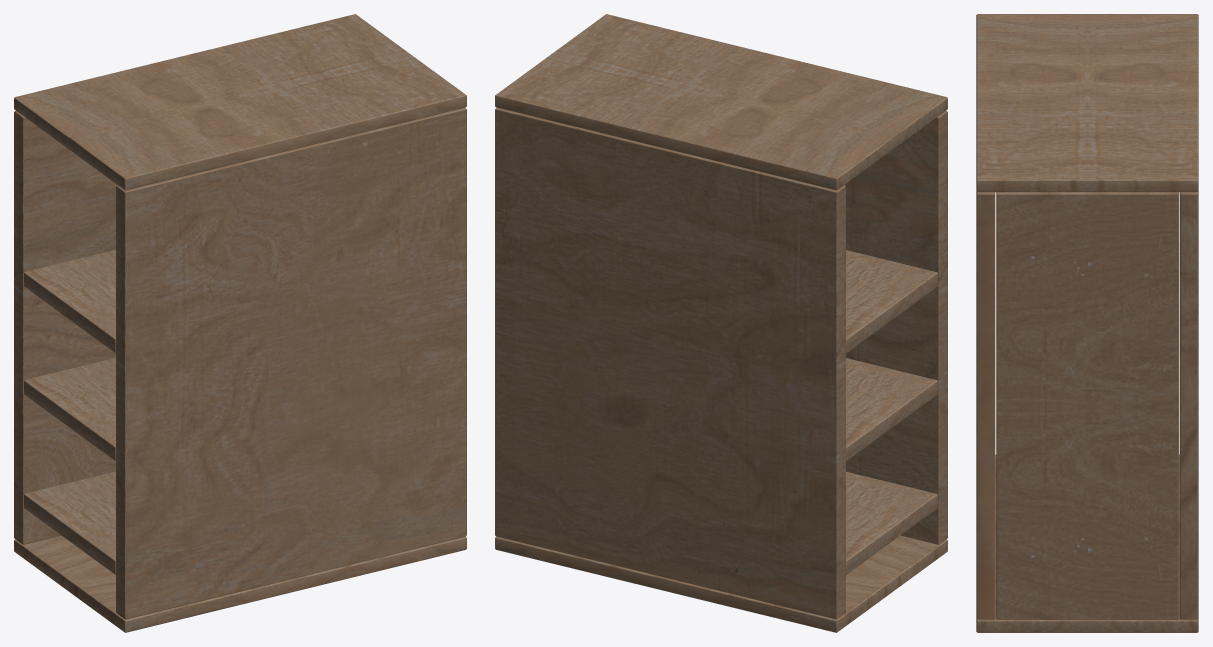
File: SM_Middle_Table_Var_2.fbx
3 views of the same model, side by side, from view 1: azimuth 30°, elevation 25°; view 2: azimuth 150°, elevation 25°; view 3: azimuth 270°, elevation 25° (orthographic).
Visible parts, largest first — view 1: SM_Middle_Table_Var_2_LOD0; view 2: SM_Middle_Table_Var_2_LOD0; view 3: SM_Middle_Table_Var_2_LOD0.
Boxes of the visible parts, left/top/right/bottom form: SM_Middle_Table_Var_2_LOD0: left=14, top=14, right=466, bottom=632; SM_Middle_Table_Var_2_LOD0: left=495, top=14, right=947, bottom=632; SM_Middle_Table_Var_2_LOD0: left=976, top=14, right=1198, bottom=632.
Bounding box in the file's own units: 79.74 × 44.91 × 101.
Materials: 1 (1 with a texture image).
